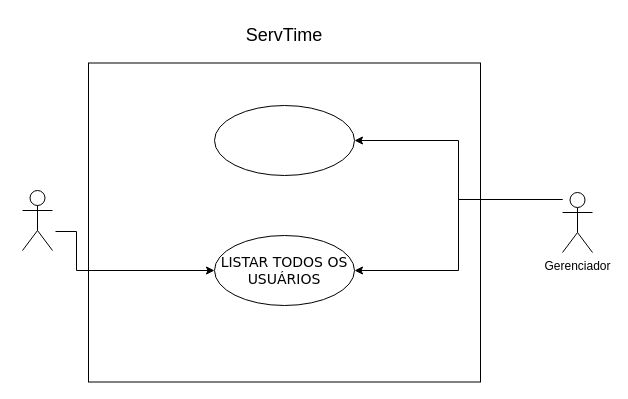
The diagram is 628 pixels wide and 399 high, and some of its shapes have lost their labels. The shapes that lost their labels are listed below. From the top down, each one's centre as x and y in pixels, then its label:
At point (284, 140): "ADI Ç ÃO DE USUÁRIOS".
At point (37, 220): "Usuário".
